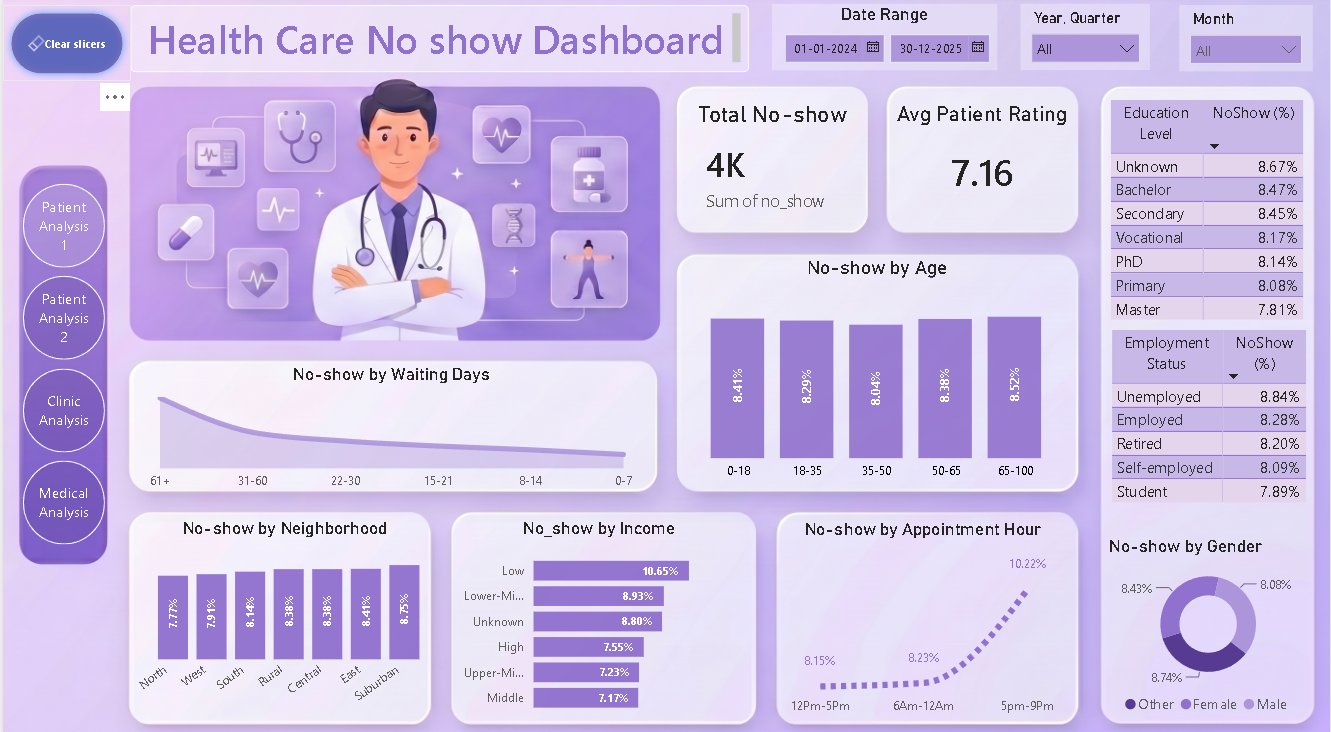

The page's visual inventory and layout, read from the dashboard file:
{"tool":"powerbi","page":{"name":"Patient Analysis 1","canvas":[1280,720],"ordinal":0},"visuals":[{"type":"cardVisual","title":"Total No-show","fields":{"Data":["Sum(patient_behavior_analysis (3).no_show)"]},"box":[649.1,102.5,187,121.9],"z":0},{"type":"cardVisual","title":"Avg Patient Rating","fields":{"Data":["Avg(patient_behavior_analysis (3).patient_satisfaction_score)"]},"box":[854.9,102.9,179.8,130.4],"z":1000},{"type":"clusteredColumnChart","title":"No-show by Neighborhood","fields":{"Y":["patient_behavior_analysis (3).NoShow_Percentage"],"Category":["patient_behavior_analysis (3).neighborhood"]},"box":[121.8,504.5,300.9,199.1],"z":2000},{"type":"areaChart","title":"No-show by Waiting Days","fields":{"Y":["patient_behavior_analysis (3).NoShow_Percentage"],"Category":["patient_behavior_analysis (3).waiting_group"]},"box":[111.2,356.3,528.8,131.1],"z":3000},{"type":"lineChart","title":"No-show by Appointment Hour","fields":{"Y":["patient_behavior_analysis (3).NoShow_Percentage"],"Category":["patient_behavior_analysis (3).appointment_hour_group"]},"box":[742.4,505,292.3,199],"z":4000},{"type":"clusteredColumnChart","title":"No-show by Age","fields":{"Y":["patient_behavior_analysis (3).NoShow_Percentage"],"Category":["patient_behavior_analysis (3).age_group"]},"box":[651.8,252.5,384.2,225],"z":5000},{"type":"donutChart","title":"No-show by Gender","fields":{"Y":["patient_behavior_analysis (3).NoShow_Percentage"],"Category":["patient_behavior_analysis (3).gender"]},"box":[1063.3,521.7,201,182.4],"z":6000},{"type":"textbox","box":[123.5,9.6,596.9,64.5],"z":7000},{"type":"barChart","title":"No_show by Income ","fields":{"Y":["patient_behavior_analysis (3).NoShow_Percentage"],"Category":["patient_behavior_analysis (3).income_level"]},"box":[421.8,504.5,306.4,199.1],"z":8000},{"type":"tableEx","fields":{"Values":["patient_behavior_analysis (3).education_level","patient_behavior_analysis (3).NoShow_Percentage"]},"box":[1063.5,96.1,200.3,226.4],"z":9000},{"type":"tableEx","fields":{"Values":["patient_behavior_analysis (3).employment_status","patient_behavior_analysis (3).NoShow_Percentage"]},"box":[1063.8,318.8,200,186.2],"z":10000},{"type":"slicer","title":"Date Range","fields":{"Values":["patient_behavior_analysis (3).appointment_day"]},"box":[742.5,8.8,217.5,63.8],"z":11000},{"type":"slicer","title":"Year, Qrt","fields":{"Values":["patient_behavior_analysis (3).appointment_day.Variation.Date Hierarchy.Year","patient_behavior_analysis (3).appointment_day.Variation.Date Hierarchy.Quarter"]},"box":[982.5,8.8,125,63.8],"z":12000},{"type":"slicer","fields":{"Values":["patient_behavior_analysis (3).appointment_day.Variation.Date Hierarchy.Month"]},"box":[1135,10,128.8,63.8],"z":13000},{"type":"pageNavigator","box":[19.2,182.5,79.6,349.9],"z":14000},{"type":"actionButton","box":[0,9.6,123.5,74.1],"z":15000}]}

Visuals, with their boxes in screenshot pixels (x1, y1, x2, y2), scaled from the page's 1280x720 canvas onto the 1331x732 screenshot:
"Total No-show" cardVisual: 675, 104, 869, 228
"Avg Patient Rating" cardVisual: 889, 105, 1076, 237
"No-show by Neighborhood" clusteredColumnChart: 127, 513, 440, 715
"No-show by Waiting Days" areaChart: 116, 362, 666, 496
"No-show by Appointment Hour" lineChart: 772, 513, 1076, 716
"No-show by Age" clusteredColumnChart: 678, 257, 1077, 485
"No-show by Gender" donutChart: 1106, 530, 1315, 716
textbox: 128, 10, 749, 75
"No_show by Income " barChart: 439, 513, 757, 715
tableEx - patient_behavior_analysis (3).education_level x patient_behavior_analysis (3).NoShow_Percentage: 1106, 98, 1314, 328
tableEx - patient_behavior_analysis (3).employment_status x patient_behavior_analysis (3).NoShow_Percentage: 1106, 324, 1314, 513
"Date Range" slicer: 772, 9, 998, 74
"Year, Qrt" slicer: 1022, 9, 1152, 74
slicer - patient_behavior_analysis (3).appointment_day.Variation.Date Hierarchy.Month: 1180, 10, 1314, 75
pageNavigator: 20, 186, 103, 541
actionButton: 0, 10, 128, 85
